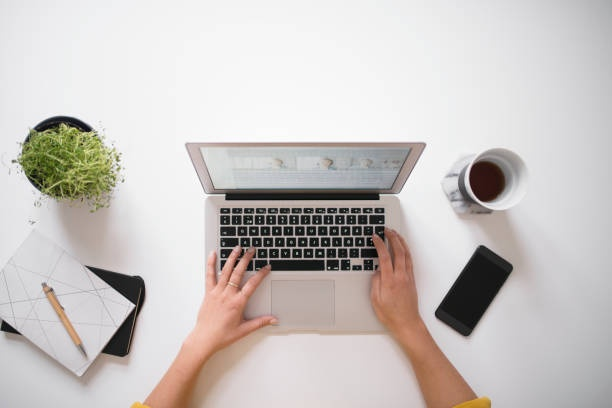keyboard: (217, 205, 388, 273)
laptop: (183, 140, 427, 336)
phone: (433, 242, 514, 336)
